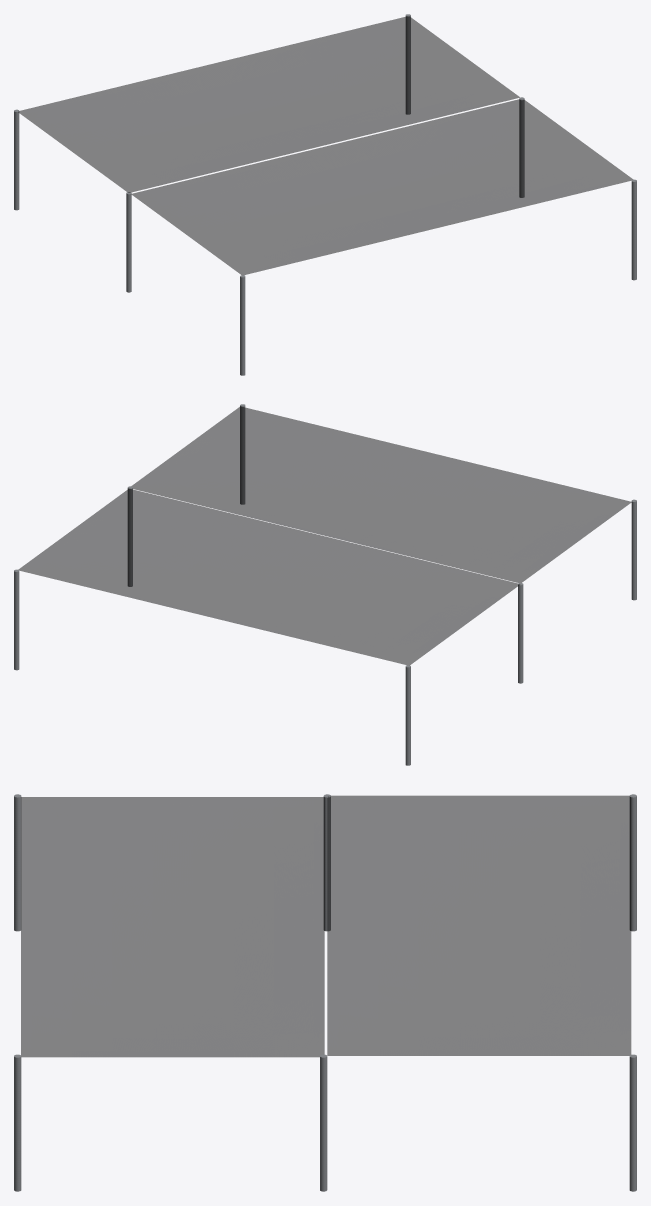
File: TelemReshetTzel_LOD0.gltf
3 renders of one model, top to bottom at view 1: azimuth 30°, elevation 25°; view 2: azimuth 150°, elevation 25°; view 3: azimuth 270°, elevation 25°, orthographic. The views are drawn at different scales.
Visible parts, largest first — view 1: node2, node1; view 2: node2, node1; view 3: node2, node1.
Boxes of the visible parts, x1,y1,x2,y2 form: node2: (18, 16, 632, 275); node1: (14, 14, 636, 375); node2: (18, 406, 631, 665); node1: (14, 404, 636, 765); node2: (21, 795, 631, 1057); node1: (14, 794, 636, 1191).
Size of the model in its own units: 25.3 by 6 by 25.3.
